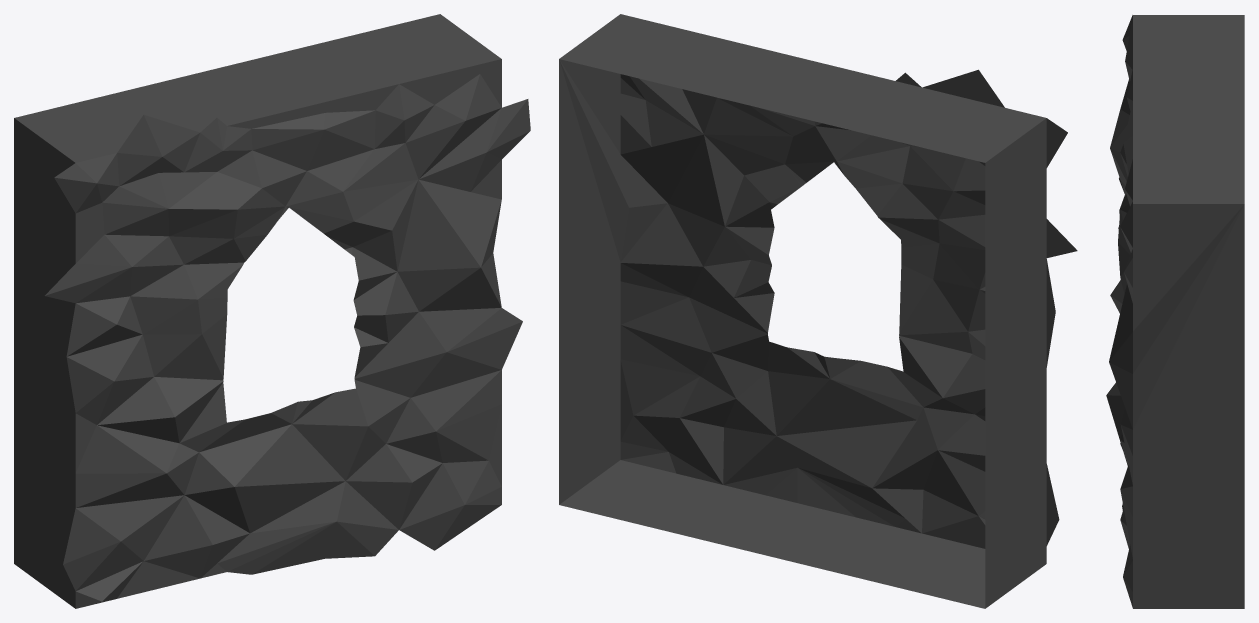
The model's file is Wall_Stone_Opening_Big.fbx.
The picture shows the model from 3 angles, left to right: view 1: azimuth 30°, elevation 25°; view 2: azimuth 150°, elevation 25°; view 3: azimuth 270°, elevation 25°; orthographic projection. The views are drawn at different scales.
Parts seen in each view (by area): view 1: Wall_Stone_Opening_Big; view 2: Wall_Stone_Opening_Big; view 3: Wall_Stone_Opening_Big.
Part boxes in pixels (box(x1,y1,x2,y2)): Wall_Stone_Opening_Big: box(14, 14, 530, 608); Wall_Stone_Opening_Big: box(559, 14, 1077, 608); Wall_Stone_Opening_Big: box(1106, 15, 1244, 608).
Size of the model in its own units: 913 by 910 by 248.
